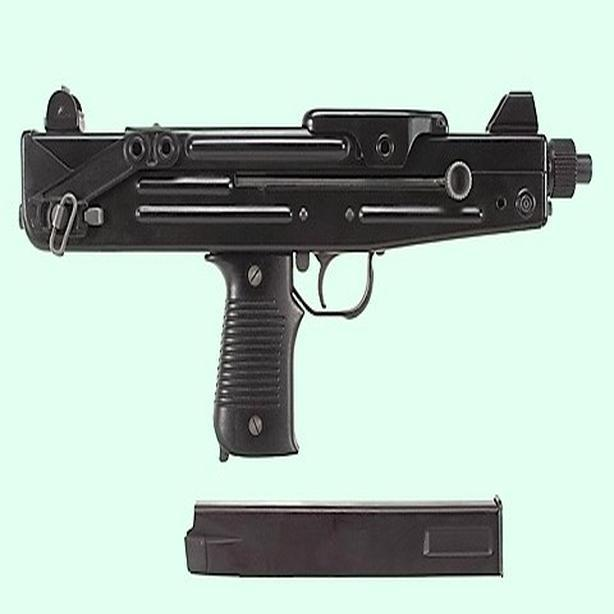Firearm: (12, 68, 614, 464)
